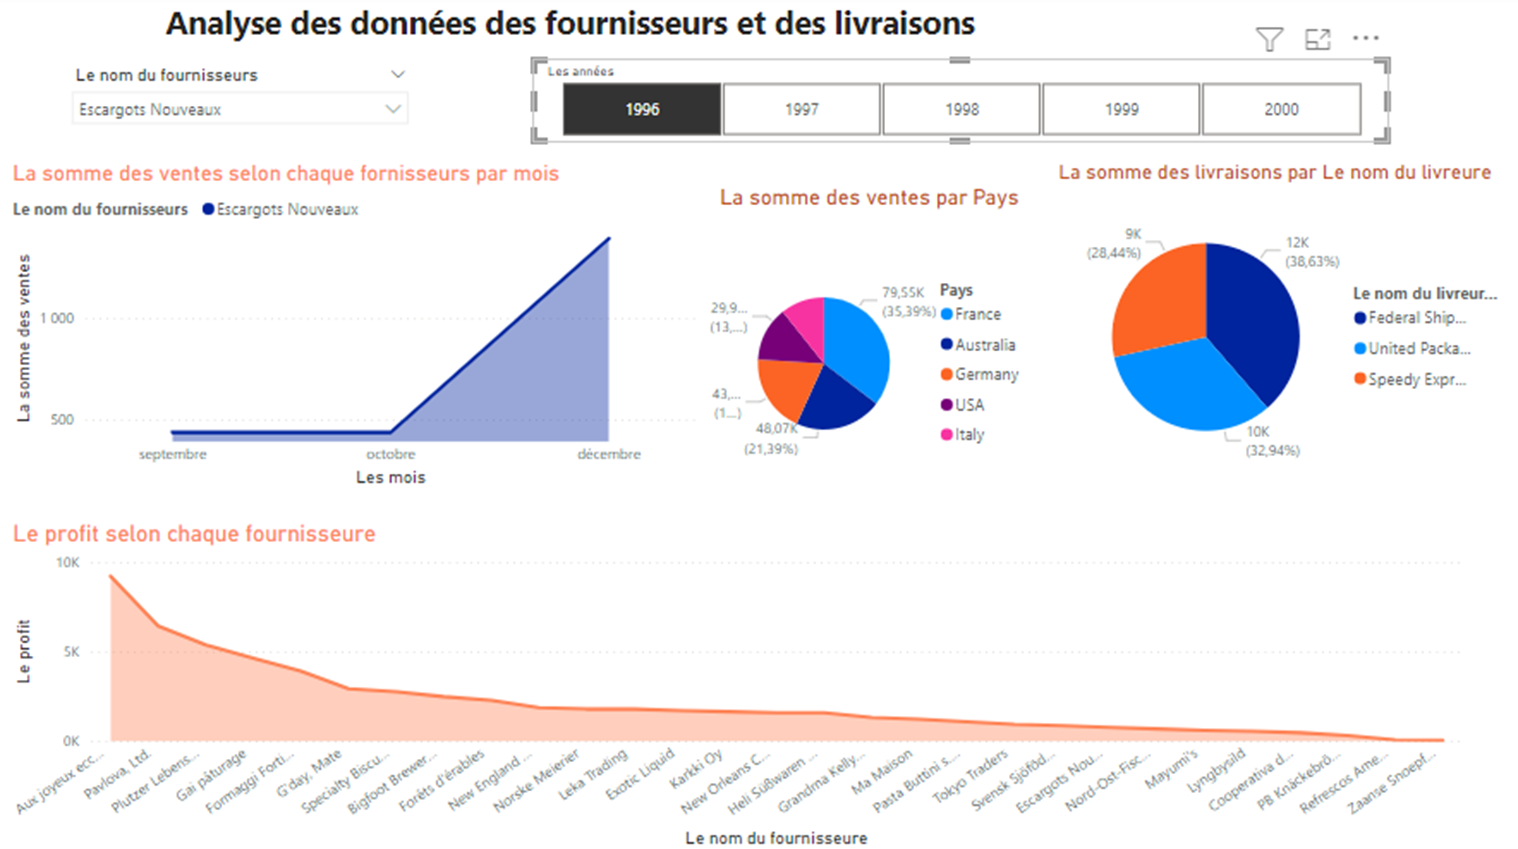

Layout of this report page (visuals, bound fields, positions):
{"tool":"powerbi","page":{"name":"Page 5","canvas":[1280,720],"ordinal":3},"visuals":[{"type":"textbox","title":"eeeeeeeeee","box":[10,0,280,280],"z":0},{"type":"slicer","fields":{"Values":["dwolap suppliers.SupplierName"]},"box":[10,55,280,70],"z":1},{"type":"pieChart","fields":{"Category":["dwolap suppliers.Country"],"Y":["mesures.Total_sales"]},"box":[593.3,160,280,280],"z":2},{"type":"stackedAreaChart","fields":{"Category":["dwolap suppliers.SupplierName"],"Y":["mesures.profite"]},"box":[10,440,1225,280],"z":3},{"type":"stackedAreaChart","fields":{"Category":["dwolap temps_id.Month_name"],"Y":["mesures.Total_sales"],"Series":["dwolap suppliers.SupplierName"]},"box":[10,140,583.3,278.3],"z":4},{"type":"pieChart","fields":{"Category":["dwolap shippers.ShipperName"],"Y":["Sum(dwolap order_fact.totalQuantity)"]},"box":[886.7,140,380,278.3],"z":5},{"type":"slicer","fields":{"Values":["dwolap temps_id.Year_id"]},"box":[745,45,521.7,45],"z":6}]}

Visuals, with their boxes in screenshot pixels (x1, y1, x2, y2), scaled from the page's 1280x720 canvas onto the 1518x849 screenshot:
"eeeeeeeeee" textbox: l=12, t=0, r=344, b=330
slicer - dwolap suppliers.SupplierName: l=12, t=65, r=344, b=147
pieChart - dwolap suppliers.Country x mesures.Total_sales: l=704, t=189, r=1036, b=519
stackedAreaChart - dwolap suppliers.SupplierName x mesures.profite: l=12, t=519, r=1465, b=848
stackedAreaChart - dwolap temps_id.Month_name x mesures.Total_sales: l=12, t=165, r=704, b=493
pieChart - dwolap shippers.ShipperName x Sum(dwolap order_fact.totalQuantity): l=1052, t=165, r=1502, b=493
slicer - dwolap temps_id.Year_id: l=884, t=53, r=1502, b=106
